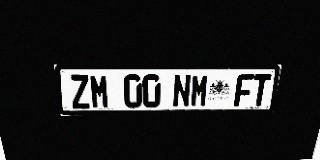0: (123, 75, 142, 108), (142, 74, 160, 108)
F: (234, 74, 254, 106)
M: (89, 75, 110, 109), (190, 74, 209, 107)
N: (172, 74, 191, 107)
T: (250, 74, 271, 106)
Z: (69, 75, 91, 109)
